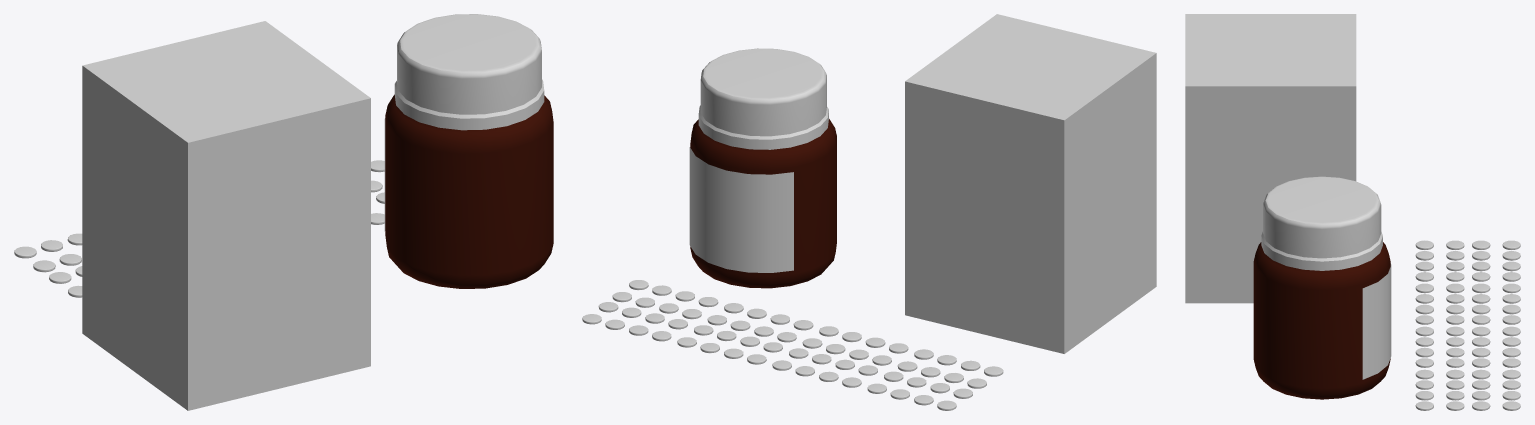
Rendered from rivo.gltf.
3 views of the same model, side by side, from view 1: azimuth 30°, elevation 25°; view 2: azimuth 150°, elevation 25°; view 3: azimuth 270°, elevation 25° (orthographic). The views are drawn at different scales.
Visible parts, largest first — view 1: pCube1, pCylinder5, pCylinder7; view 2: pCube1, pCylinder7, pCylinder8, pCylinder5; view 3: pCube1, pCylinder5, pCylinder7, pCylinder8.
Boxes of the visible parts, x1,y1,x2,y2 form: pCube1: [82, 21, 370, 410]; pCylinder5: [385, 94, 553, 288]; pCylinder7: [394, 14, 544, 130]; pCube1: [905, 14, 1156, 353]; pCylinder7: [698, 48, 828, 149]; pCylinder8: [689, 147, 793, 272]; pCylinder5: [690, 119, 836, 288]; pCube1: [1185, 14, 1356, 303]; pCylinder5: [1253, 242, 1390, 399]; pCylinder7: [1261, 176, 1382, 270]; pCylinder8: [1362, 263, 1391, 379].
Bounding box in the file's own units: 0.1245 × 0.07 × 0.098.
